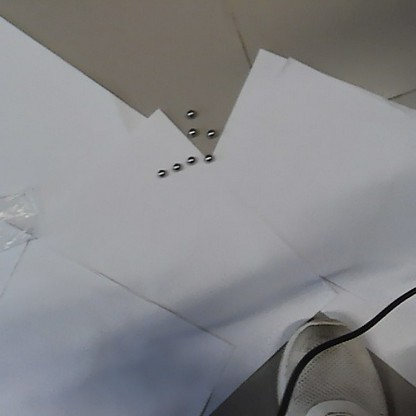ironball: (184, 106, 196, 120), (202, 152, 214, 163), (155, 168, 168, 178), (204, 127, 214, 138), (170, 161, 181, 171), (186, 155, 196, 164), (186, 128, 196, 136)
